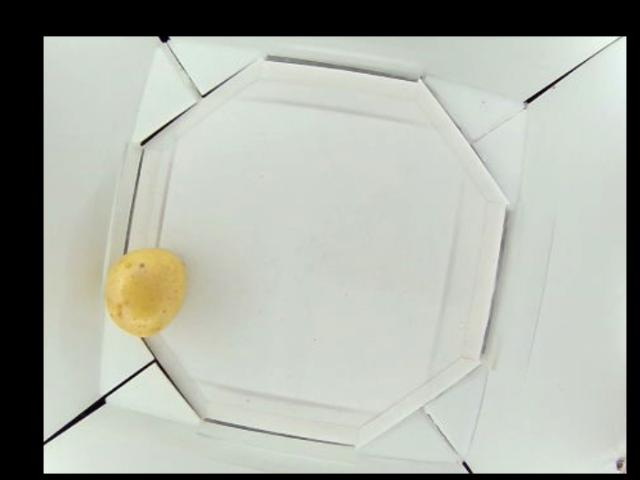Potato: (103, 244, 185, 339)
